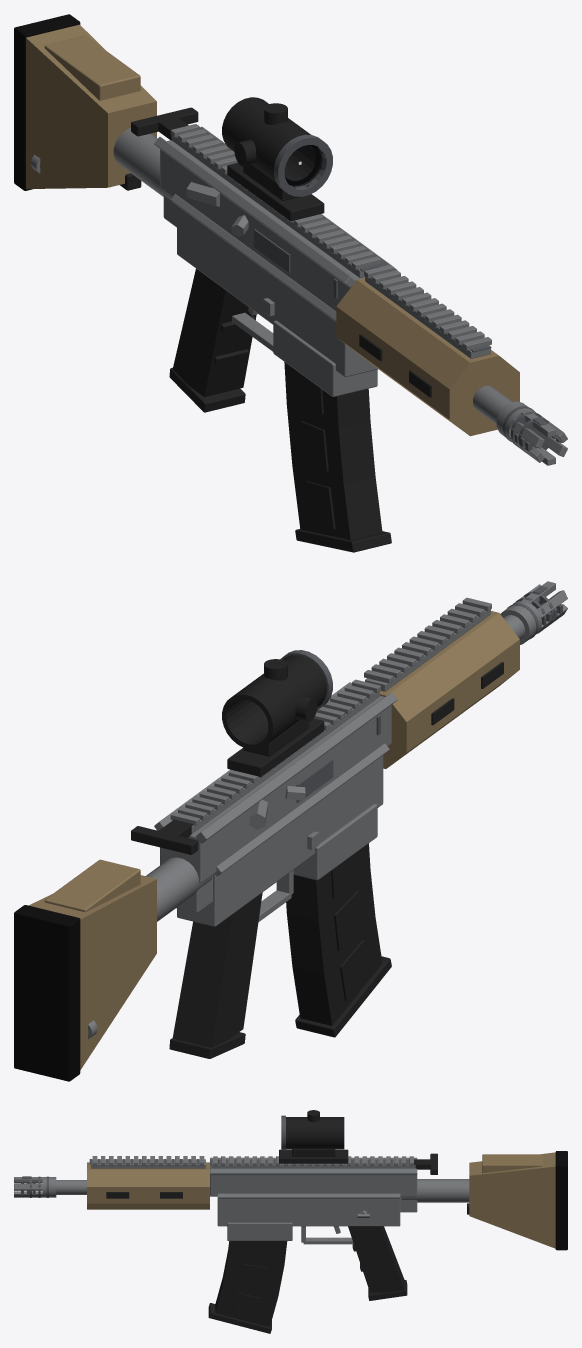
Rendered from Mpt76K.obj.
3 renders of one model, top to bottom at view 1: azimuth 30°, elevation 25°; view 2: azimuth 150°, elevation 25°; view 3: azimuth 270°, elevation 25°, orthographic. The views are drawn at different scales.
Visible parts, largest first — view 1: Body, Magazine; view 2: Body, Magazine; view 3: Body, Magazine.
Boxes of the visible parts, left/top/right/bottom form: Body: left=14, top=14, right=567, bottom=465; Magazine: left=284, top=362, right=391, bottom=552; Body: left=14, top=581, right=567, bottom=1081; Magazine: left=286, top=843, right=391, bottom=1037; Body: left=14, top=1110, right=567, bottom=1300; Magazine: left=208, top=1241, right=287, bottom=1333.
Bounding box in the file's own units: 0.0623 × 0.3103 × 0.721.
